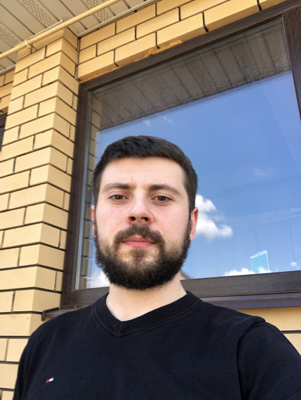without_mask: (94, 176, 189, 291)
